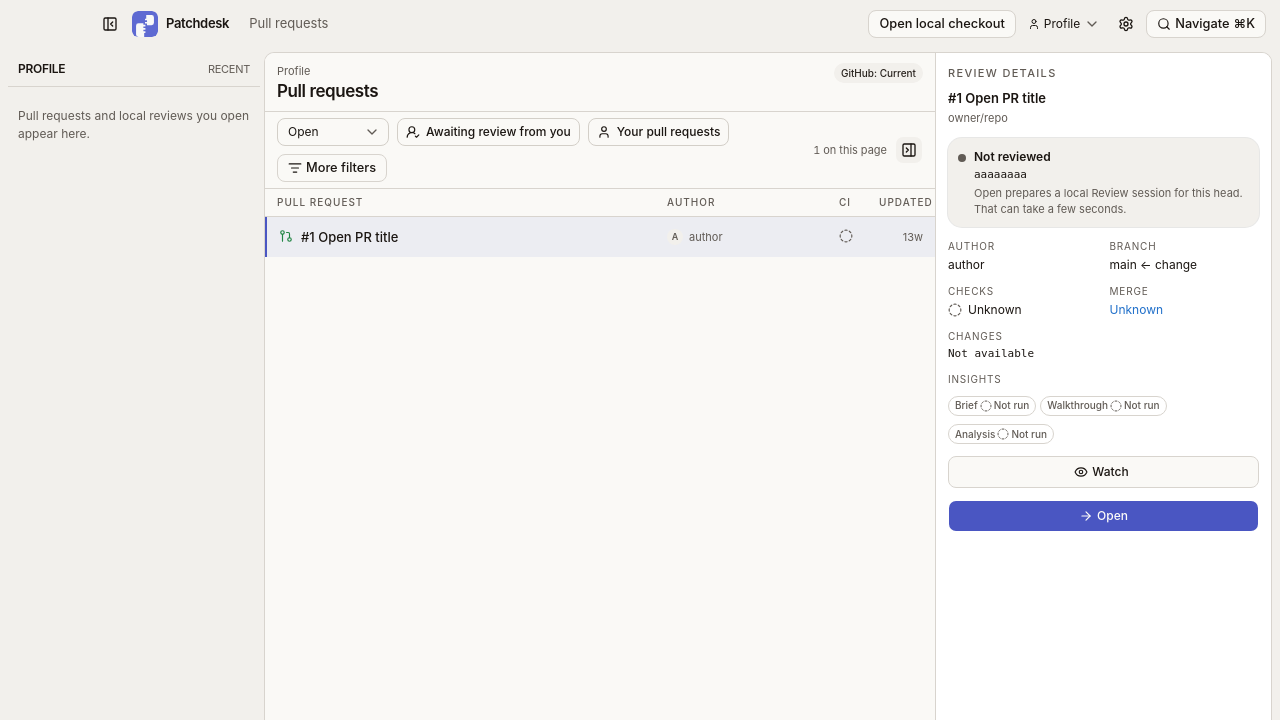
Test: App inbox state switch › holds the row list in a loading state instead of showing the previous state's rows under the new state's label
The image size is (1280, 720).
Expected: the heading "Pull requests" is shown, [277, 81, 378, 101]
Expected: the text "#1 Open PR title" is shown, [301, 227, 398, 247]
Click the dropdown named "Pull request state": (333, 132) [277, 118, 389, 146]
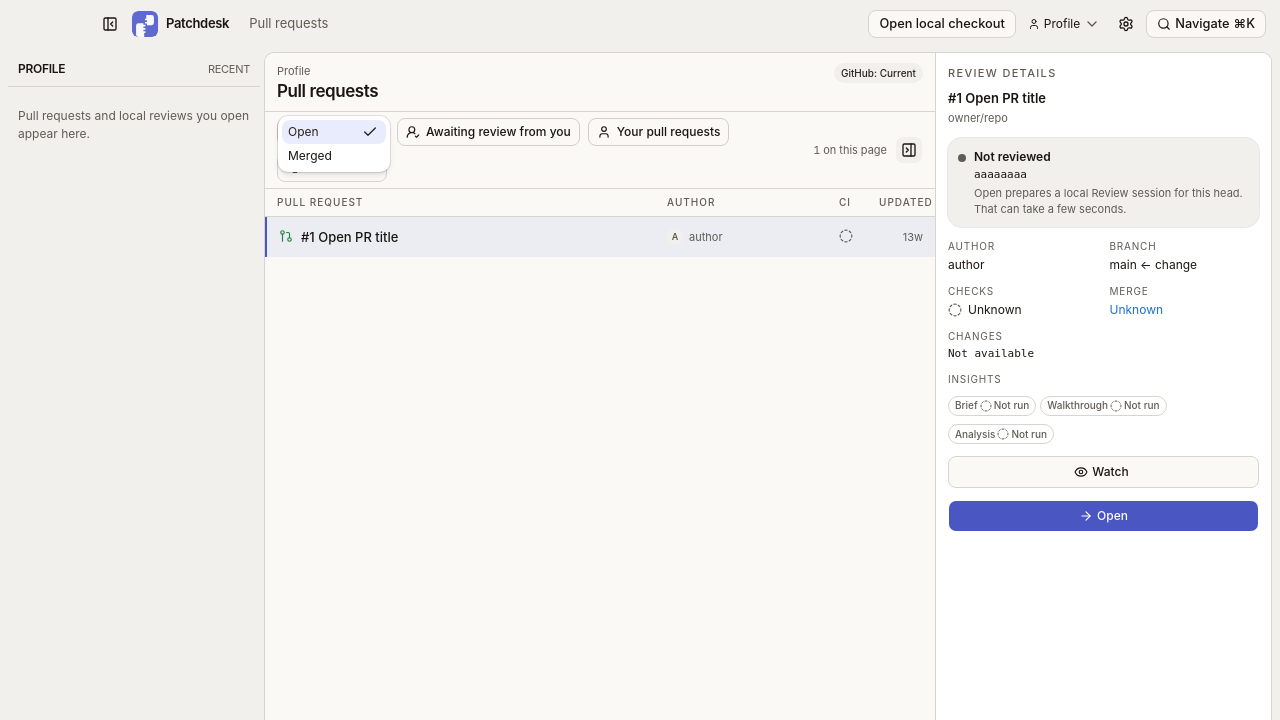
Click the option "Merged": (310, 156) [288, 148, 332, 163]
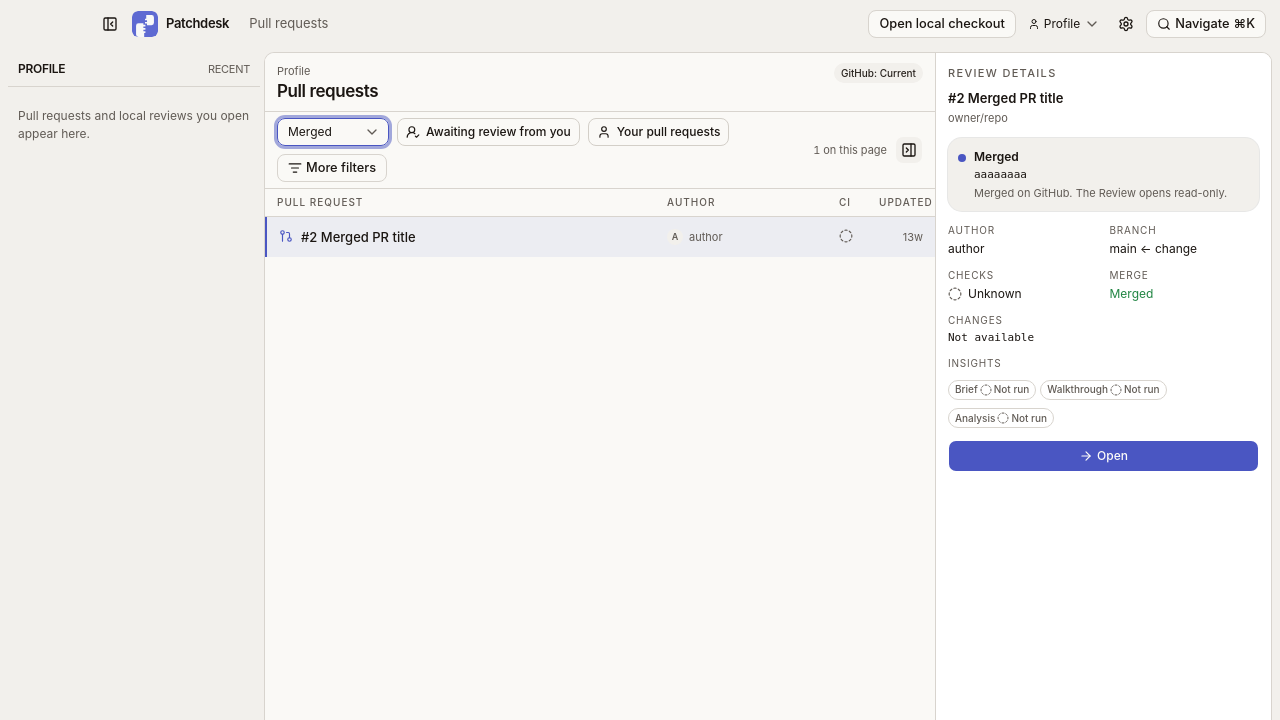
Now the dropdown named "Pull request state" shows "Merged", box [277, 118, 389, 146]
Now the text "#2 Merged PR title" is shown, box [301, 227, 416, 247]
Now the option "#1 Open PR title" is gone
